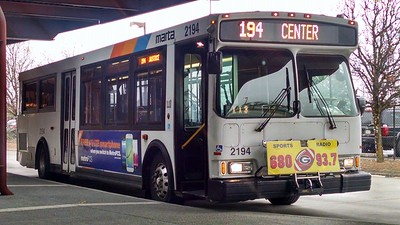bus: (16, 10, 371, 208)
